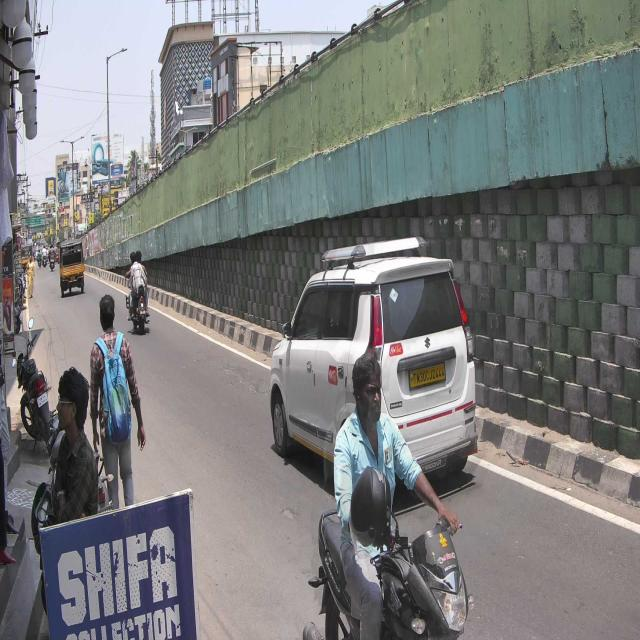single_rider: (305, 352, 474, 640)
